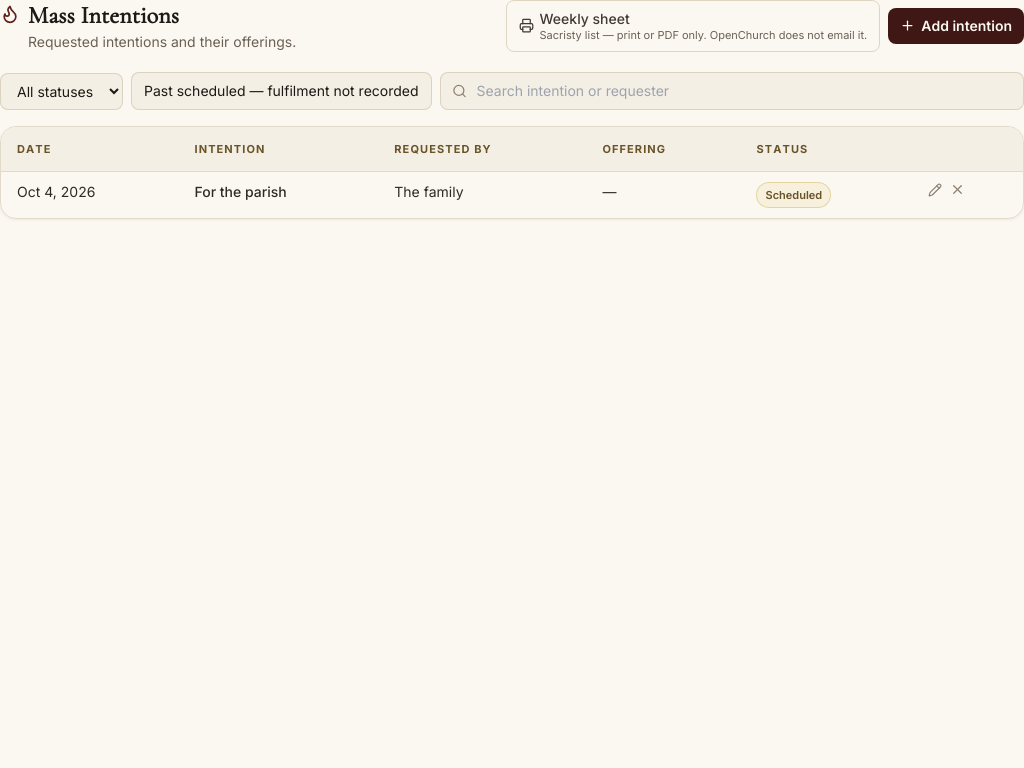
Test: Assign dropdown follows the Mass date › a stamped-history 409 says the link was not changed
Click the button named "edit intention" at (935, 190), box [928,182,942,196]
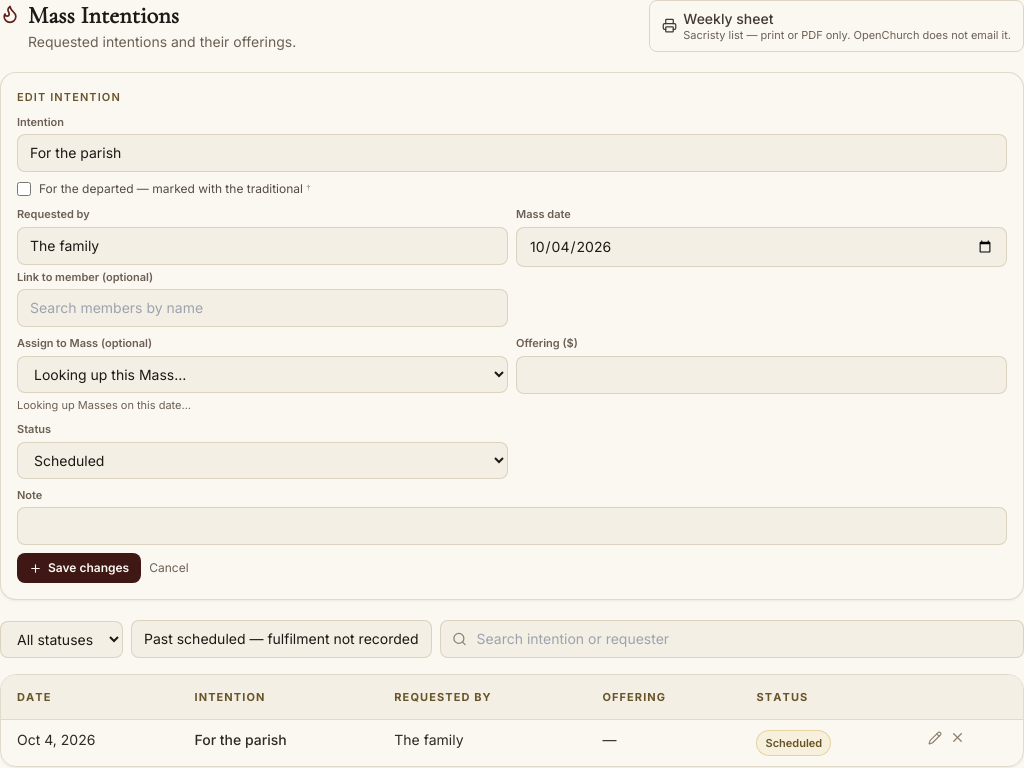
Expected: the dropdown labelled "Assign to Mass (optional)" shows "Looking up this Mass…", [17,356,508,392]
Click the button "Save changes" at (79, 568), box [17,553,141,583]
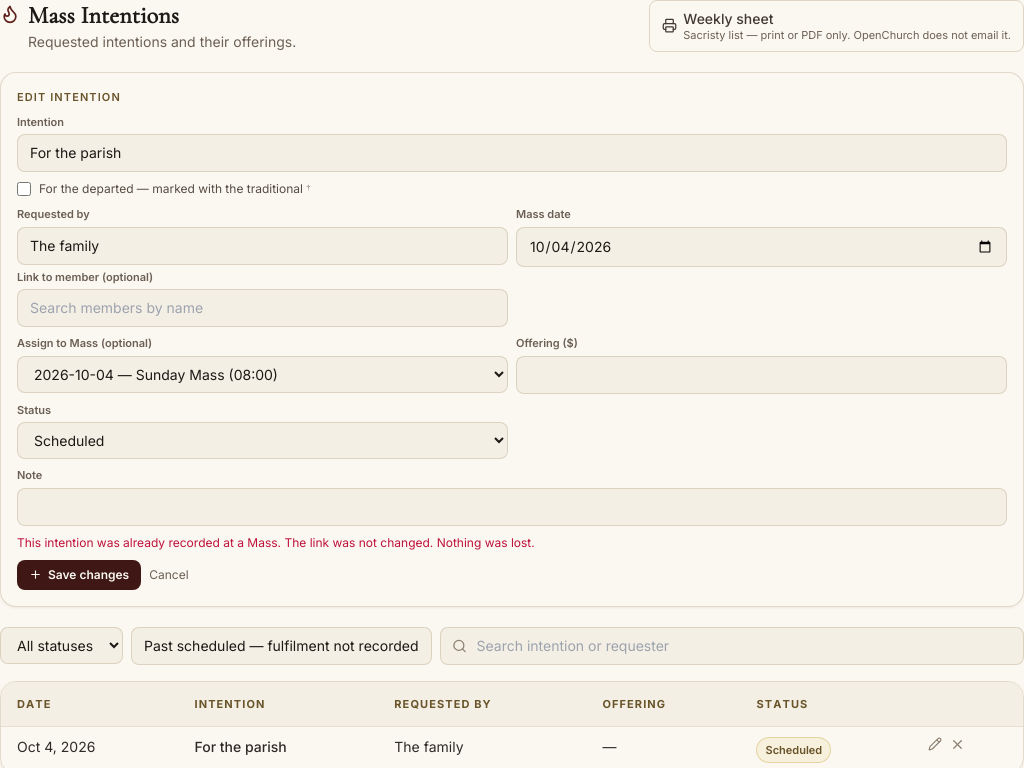
Expected: the message shows "This intention was already recorded at a Mass. The link was not changed. Nothing was lost.", [17,534,535,550]
